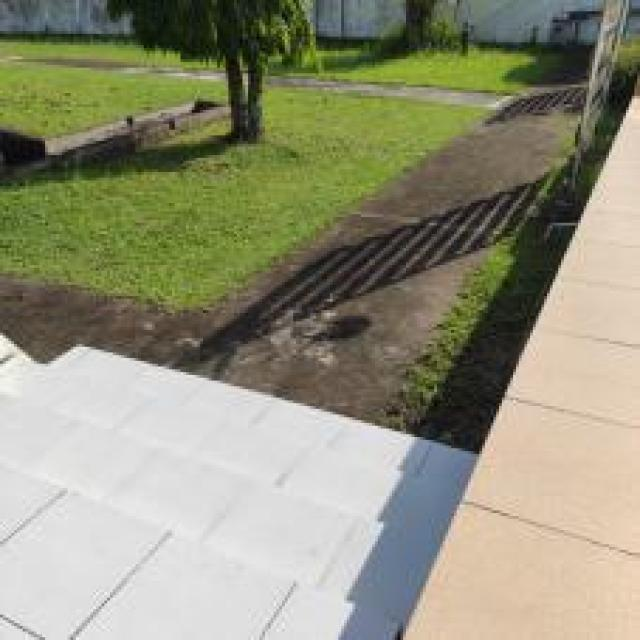downstair: (1, 342, 452, 624)
